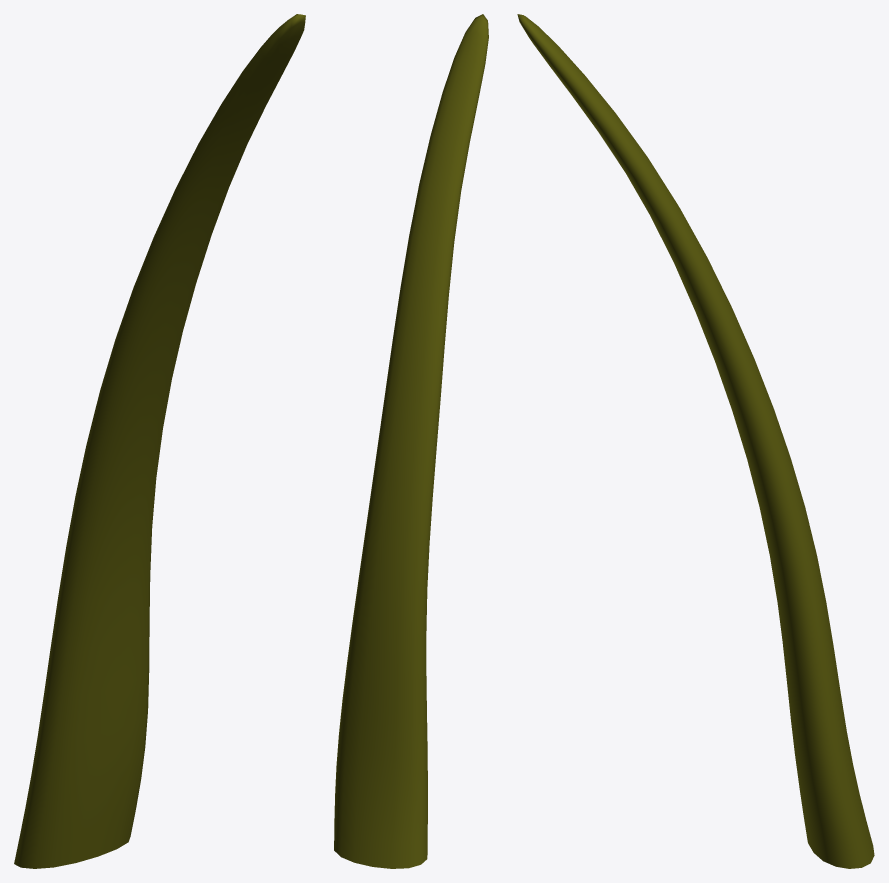
Rendered from grass2.glb.
The picture shows the model from 3 angles, left to right: view 1: azimuth 30°, elevation 25°; view 2: azimuth 150°, elevation 25°; view 3: azimuth 270°, elevation 25°; orthographic projection. The views are drawn at different scales.
Visible parts, largest first — view 1: grass.005; view 2: grass.005; view 3: grass.005.
Boxes of the visible parts, x1,y1,x2,y2 form: grass.005: (14, 14, 305, 868); grass.005: (334, 14, 488, 868); grass.005: (517, 14, 874, 868).
Bounding box in the file's own units: 0.0631 × 0.4789 × 0.1812.
